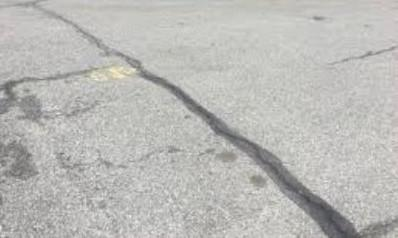crack: (149, 69, 308, 226), (5, 54, 109, 98), (18, 2, 111, 48), (326, 44, 397, 73)
